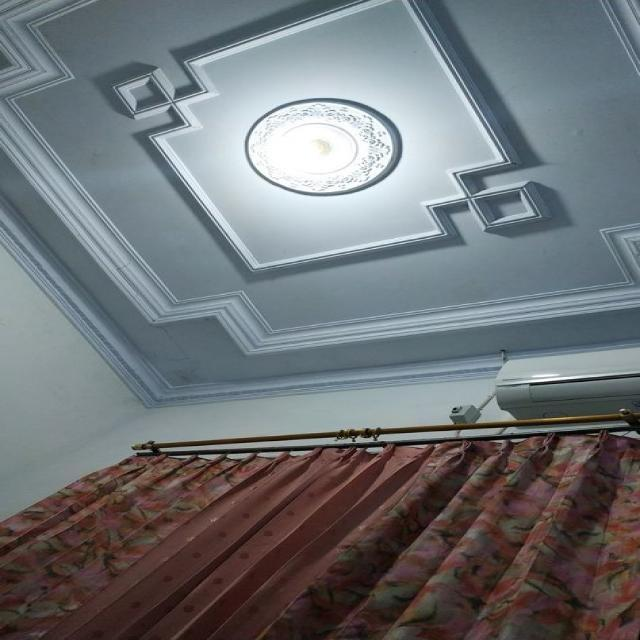AC: (495, 344, 639, 426)
